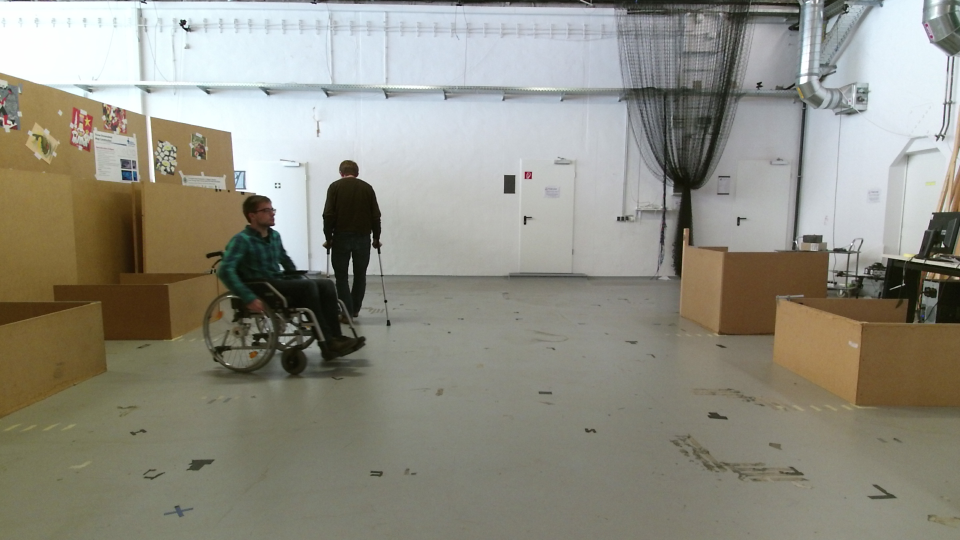crutches: (311, 153, 393, 341)
wheelchair: (185, 188, 361, 386)
